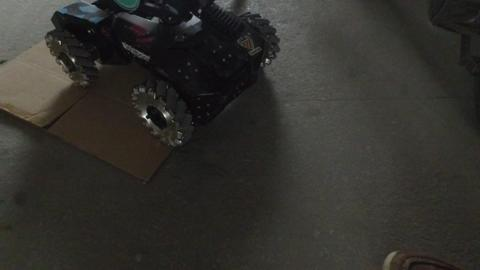chariot: (39, 1, 288, 143)
